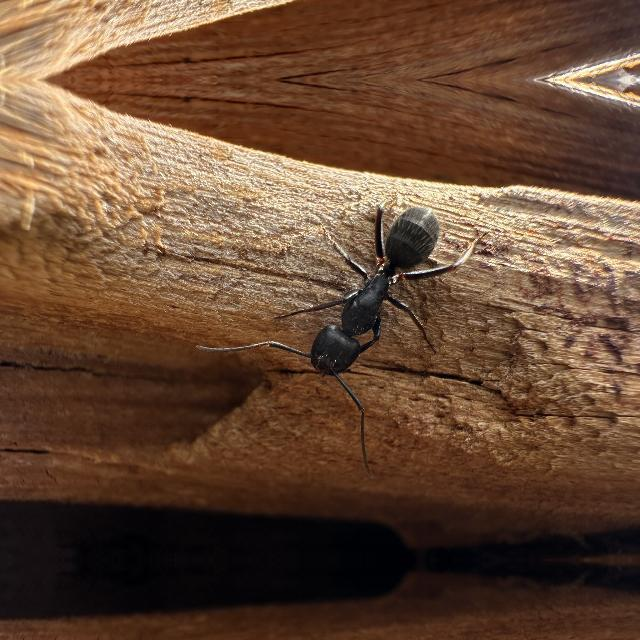Camponotus: (255, 190, 490, 404)
